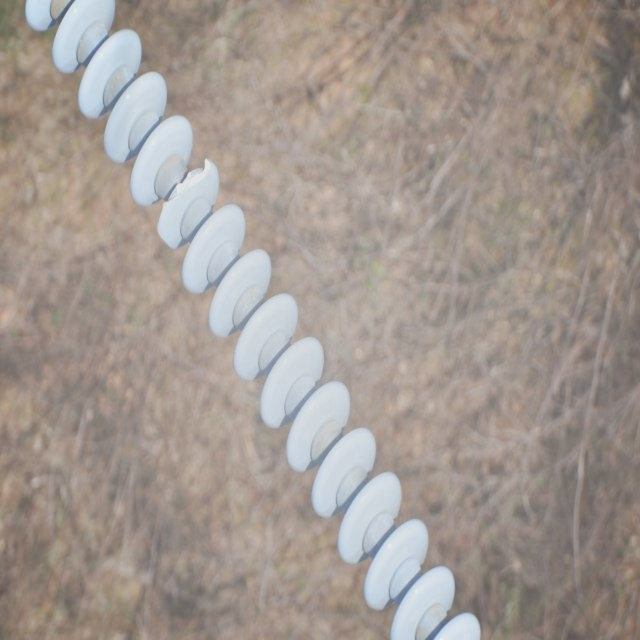broken: (154, 152, 213, 250)
insulator: (26, 0, 483, 637)
